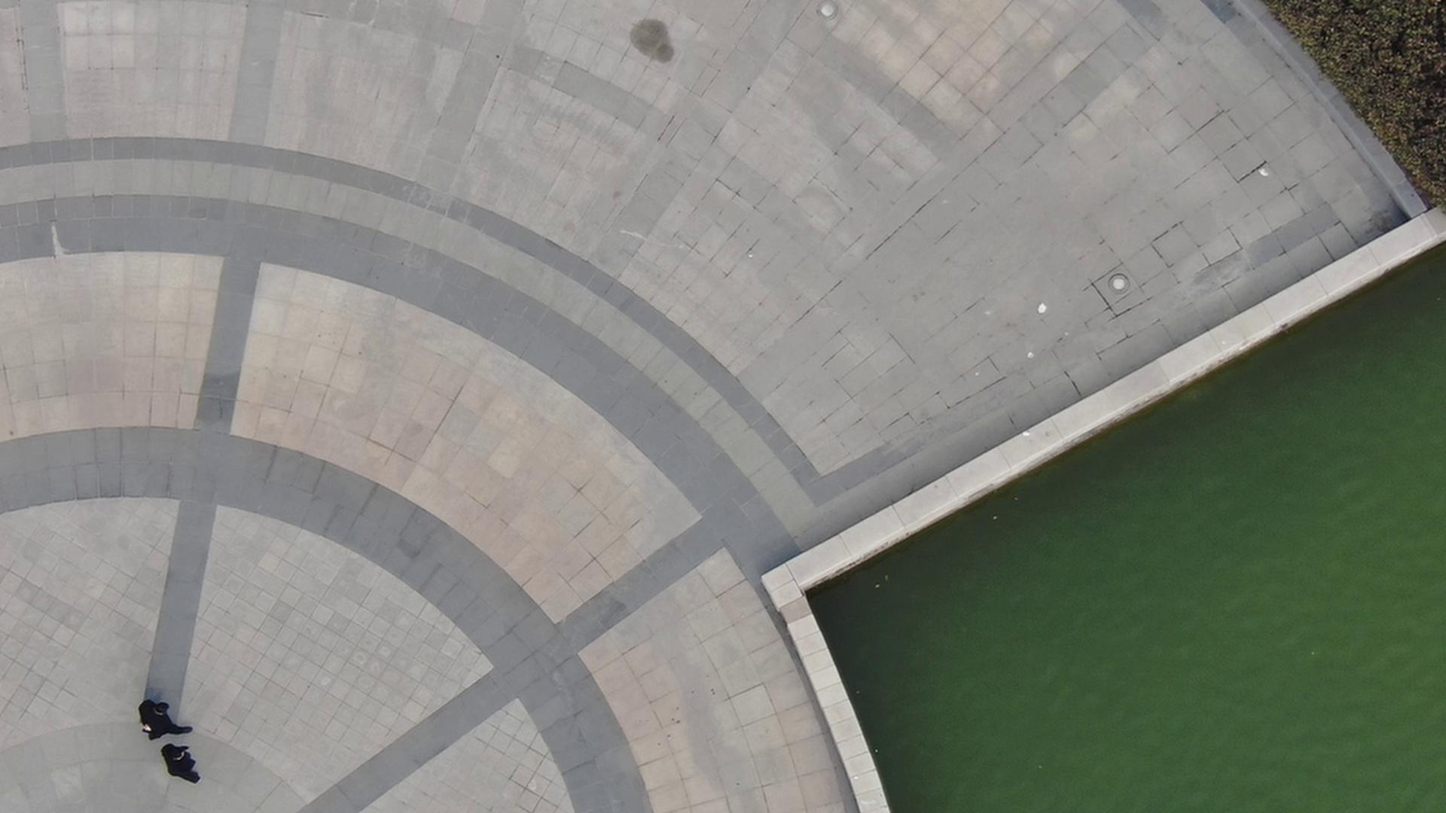human: (172, 735, 242, 786), (148, 683, 195, 748)
